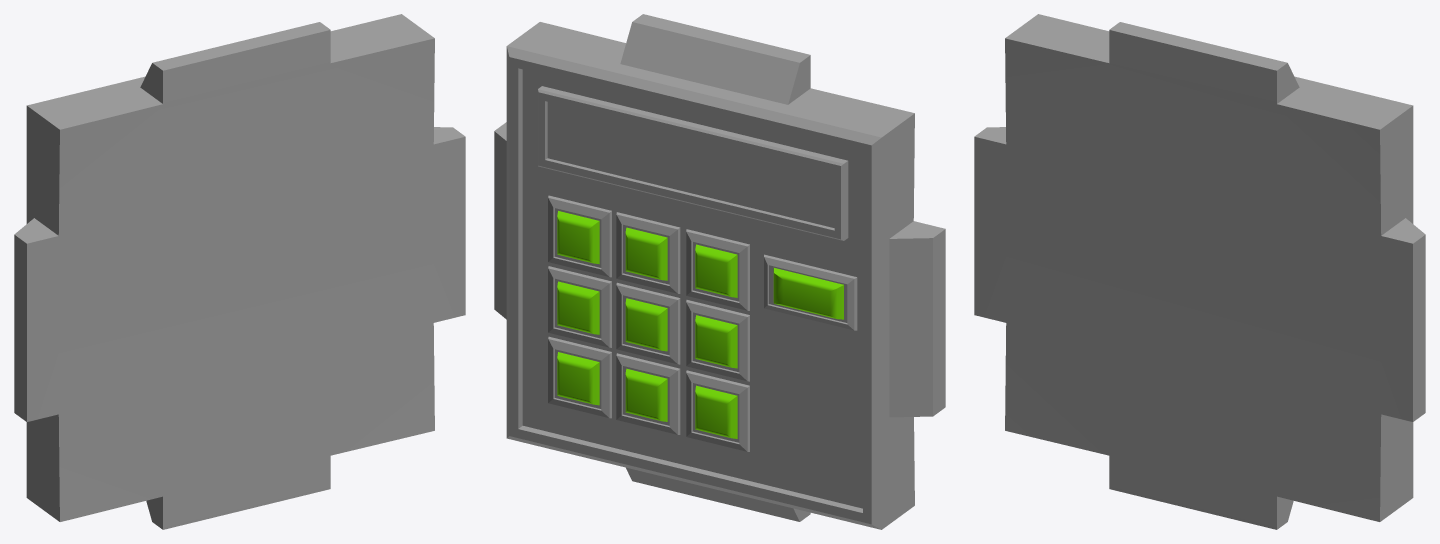
The model's file is Numpad.fbx.
The picture shows the model from 3 angles, left to right: view 1: azimuth 30°, elevation 25°; view 2: azimuth 150°, elevation 25°; view 3: azimuth 330°, elevation 25°; orthographic projection.
Parts seen in each view (by area): view 1: numpad; view 2: numpad, number_10, number_5, number_8, number_2, number_7, number_6, number_1, number_3, number_4, number_9; view 3: numpad.
Part boxes in pixels (x1,y1,x2,y2): numpad: (14, 14, 465, 529); numpad: (494, 14, 945, 529); number_10: (764, 254, 857, 330); number_5: (616, 282, 680, 364); number_8: (616, 212, 680, 293); number_2: (616, 353, 680, 434); number_7: (548, 195, 611, 277); number_6: (686, 300, 749, 381); number_1: (548, 336, 611, 418); number_3: (686, 370, 749, 451); number_4: (548, 266, 611, 347); number_9: (686, 229, 749, 310); numpad: (974, 14, 1425, 529).
Size of the model in its own units: 0.0152 by 0.0152 by 0.00231.
